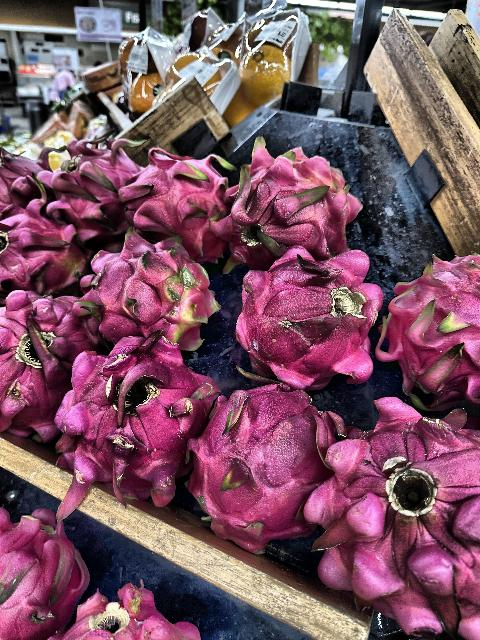buah-naga-belum-matang: (228, 147, 362, 260), (79, 240, 213, 352)
buah-naga-matang: (314, 402, 480, 638), (191, 375, 344, 559), (61, 338, 206, 510), (231, 249, 382, 393), (384, 243, 480, 402), (1, 289, 96, 441), (121, 148, 234, 252), (44, 148, 142, 242), (1, 212, 96, 290)
